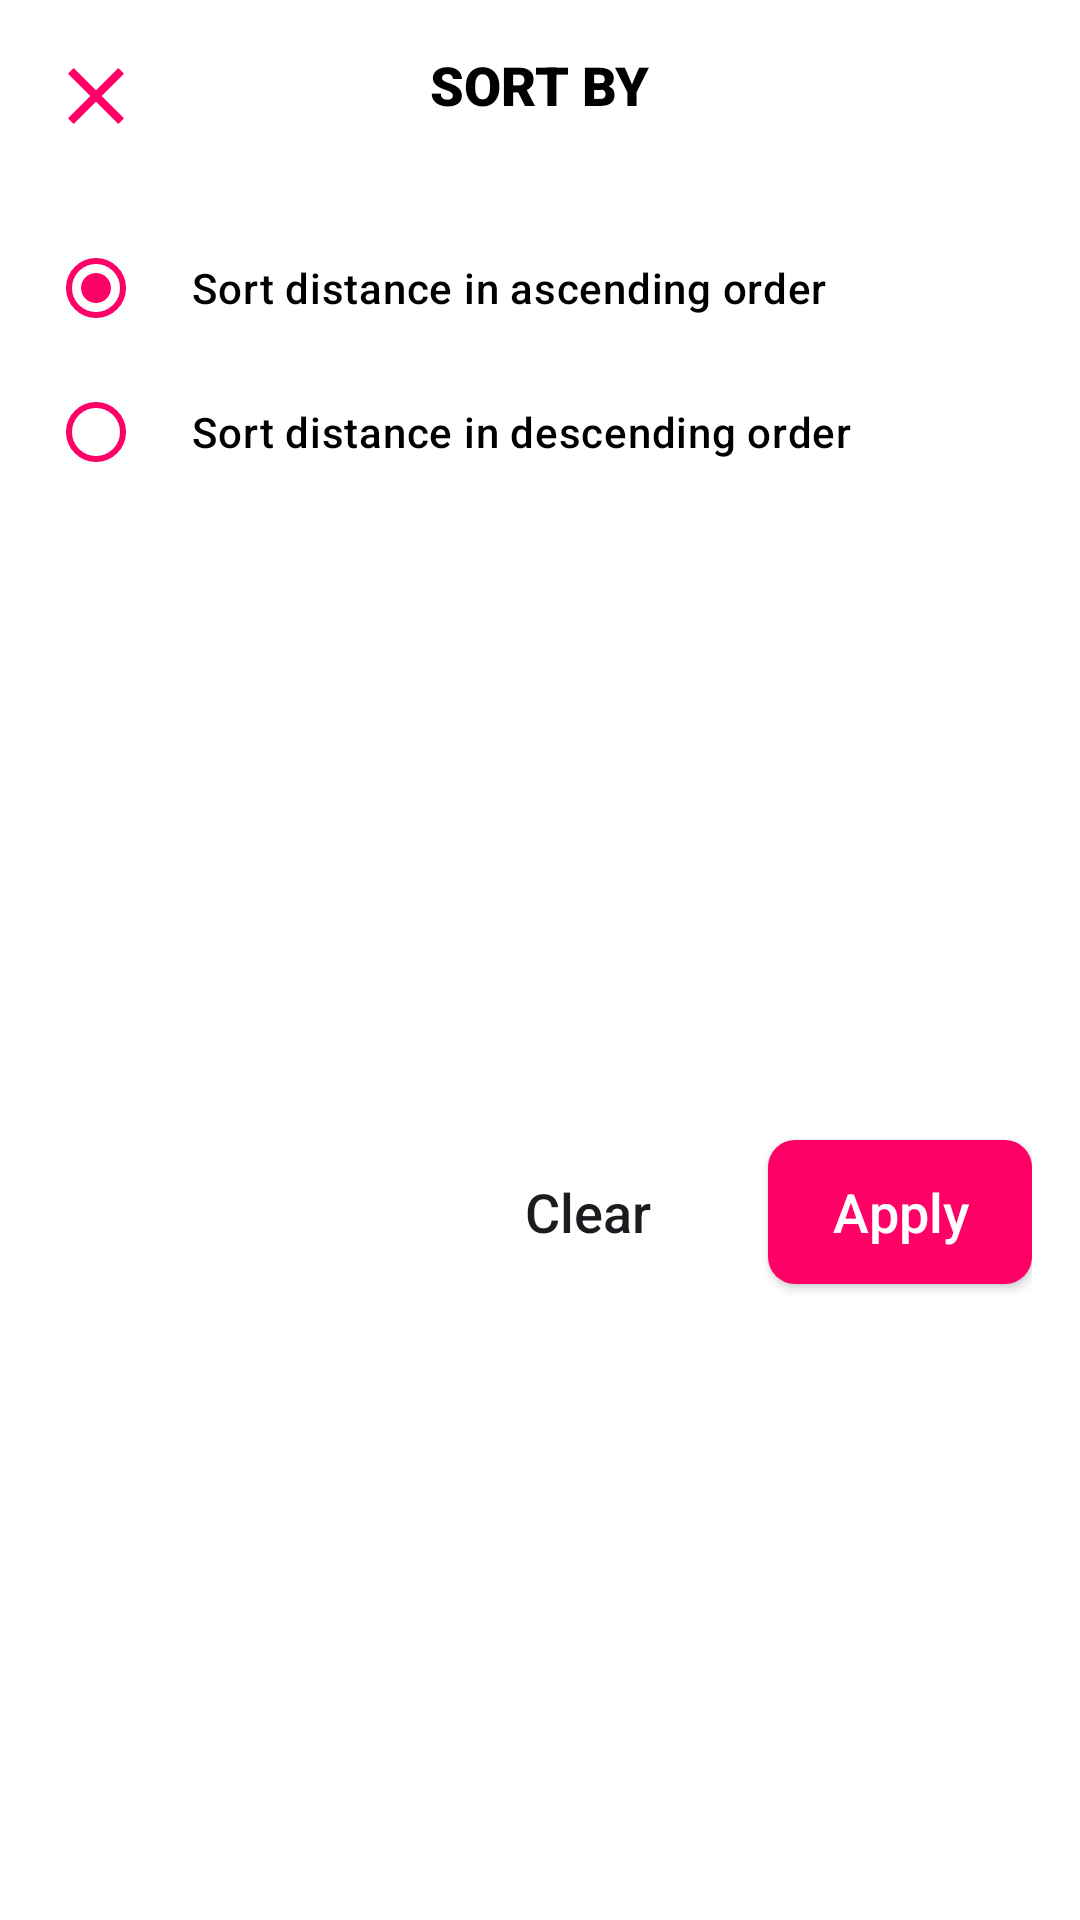

Where to tap for icons on this 1080*1920 app screen, as point (x, y):
close: point (96, 96)
